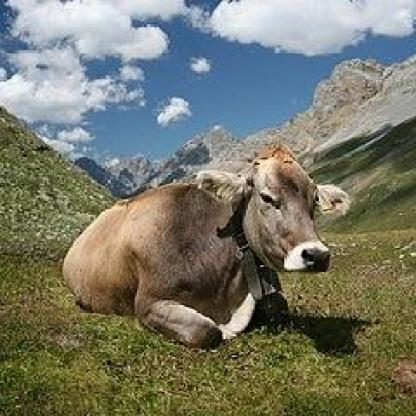cow: (63, 143, 351, 346)
